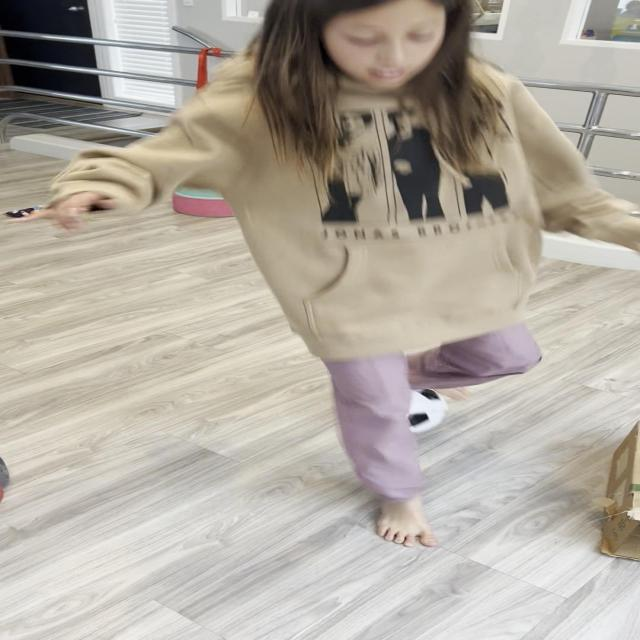Soccer Ball: (359, 383, 452, 437)
